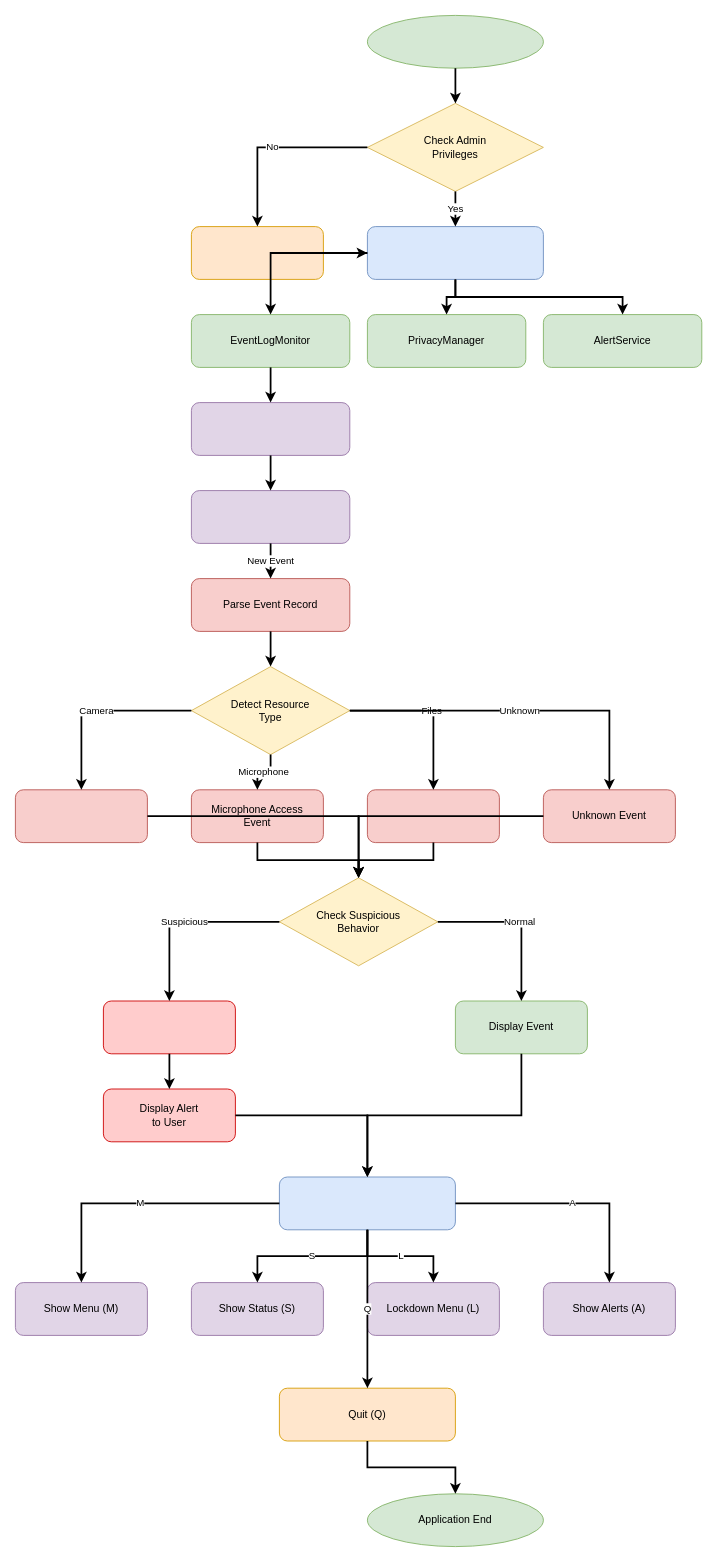
The diagram is 717 pixels wide and 1562 high, and some of its shapes have lost their labels. The centre of each missing label's shape, as x and y in pixels:
"Application Start" belongs at (x=455, y=41).
"Camera Access Event" belongs at (x=81, y=816).
"File Access Event" belongs at (x=433, y=816).
"Initialize Services" belongs at (x=455, y=252).
"Process Alert" belongs at (x=169, y=1027).
"Show Warning" belongs at (x=257, y=252).
"Start Event Log Monitoring" belongs at (x=270, y=428).
"User Menu" belongs at (x=367, y=1203).
"Windows Event Log Watcher" belongs at (x=270, y=516).
